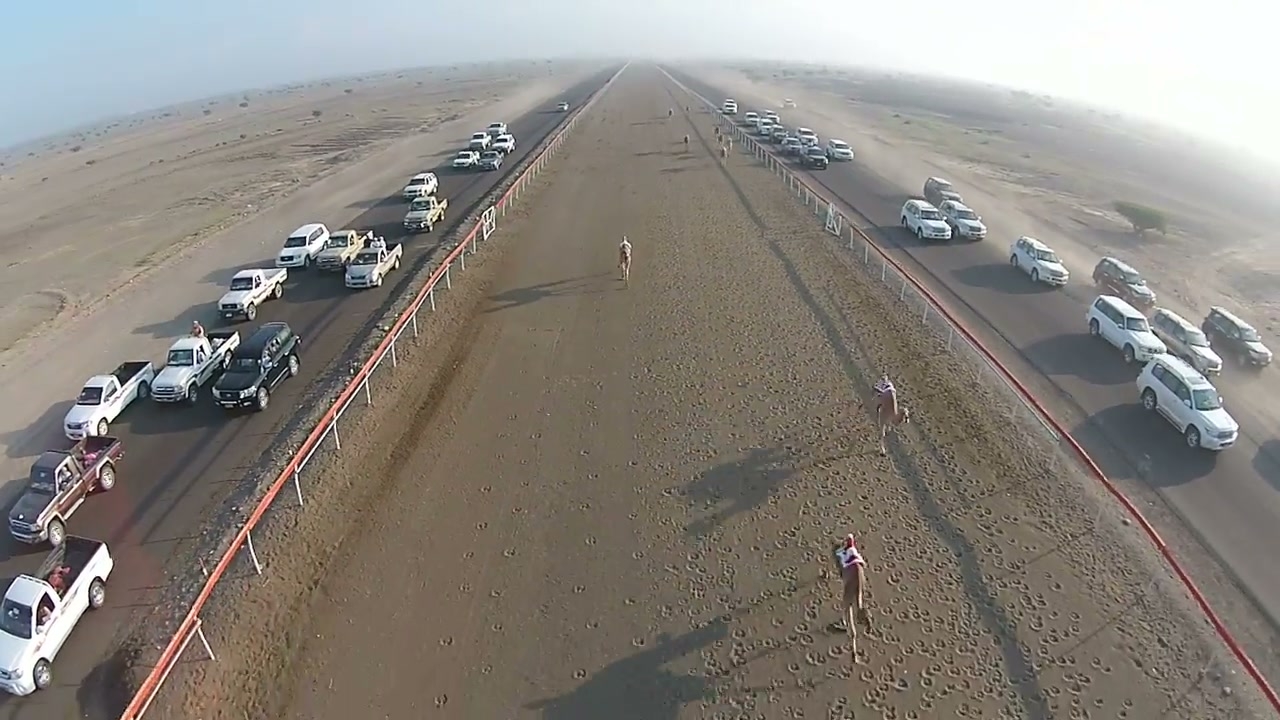animal_foot_print: (854, 429, 1110, 706), (669, 378, 862, 719)
